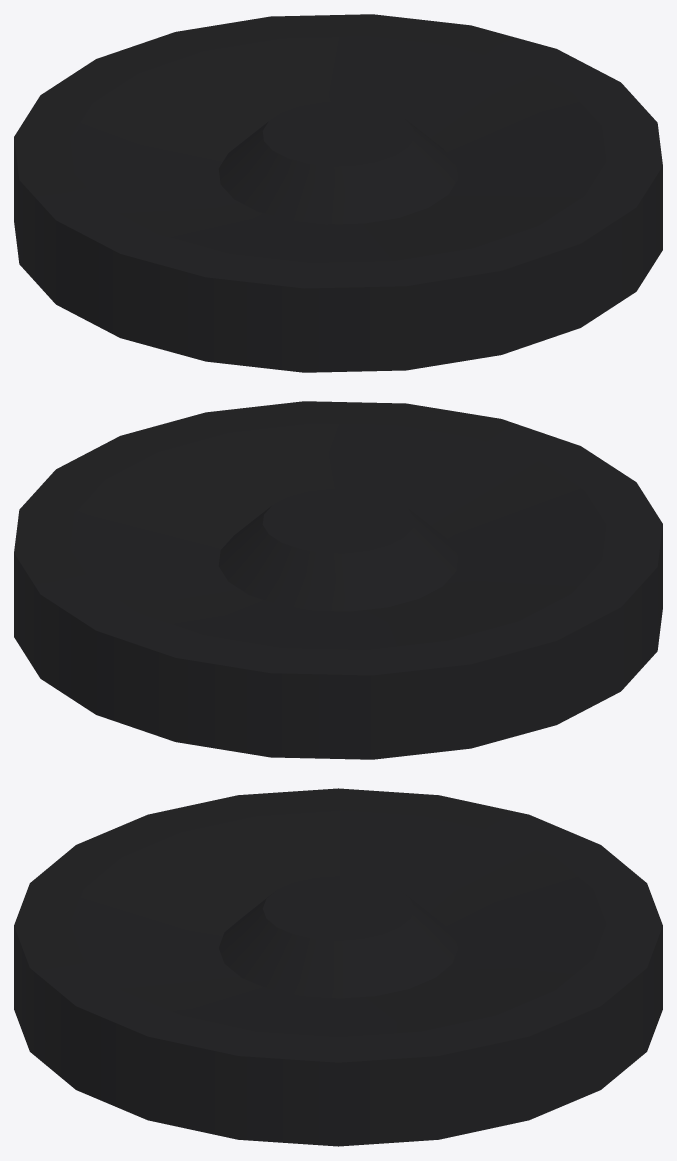
File: link_wheel.3obj.obj.glb
The picture shows the model from 3 angles, top to bottom: view 1: azimuth 30°, elevation 25°; view 2: azimuth 150°, elevation 25°; view 3: azimuth 270°, elevation 25°; orthographic projection.
Visible parts, largest first — view 1: link_wheel.3obj.obj; view 2: link_wheel.3obj.obj; view 3: link_wheel.3obj.obj.
Boxes of the visible parts, box(x1,y1,x2,y2) form: link_wheel.3obj.obj: box(14, 14, 662, 372); link_wheel.3obj.obj: box(14, 401, 662, 759); link_wheel.3obj.obj: box(14, 788, 662, 1146).
Bounding box in the file's own units: 0.1284 × 0.0257 × 0.1284.
Materials: 1 (1 with a texture image).
